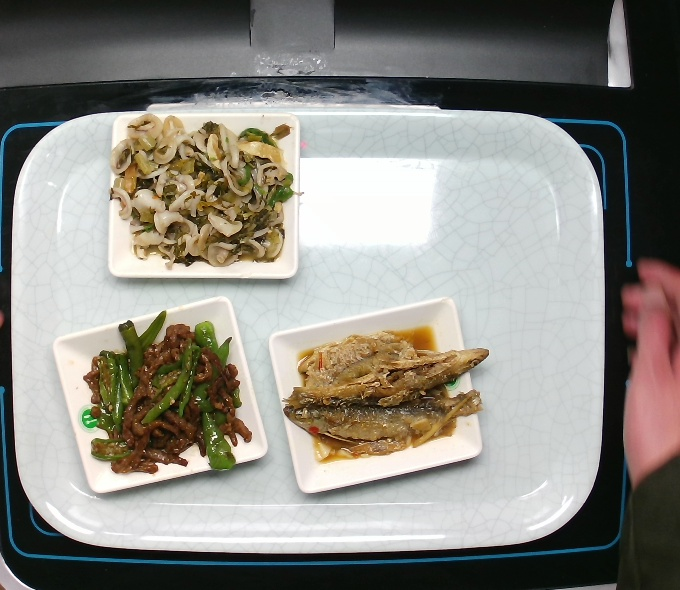wcq-QingJiaoNiuRou: (76, 307, 250, 481)
wcq-XiaoXiYu: (280, 327, 497, 462)
wcq-XueCaiYouYu: (104, 108, 300, 275)
